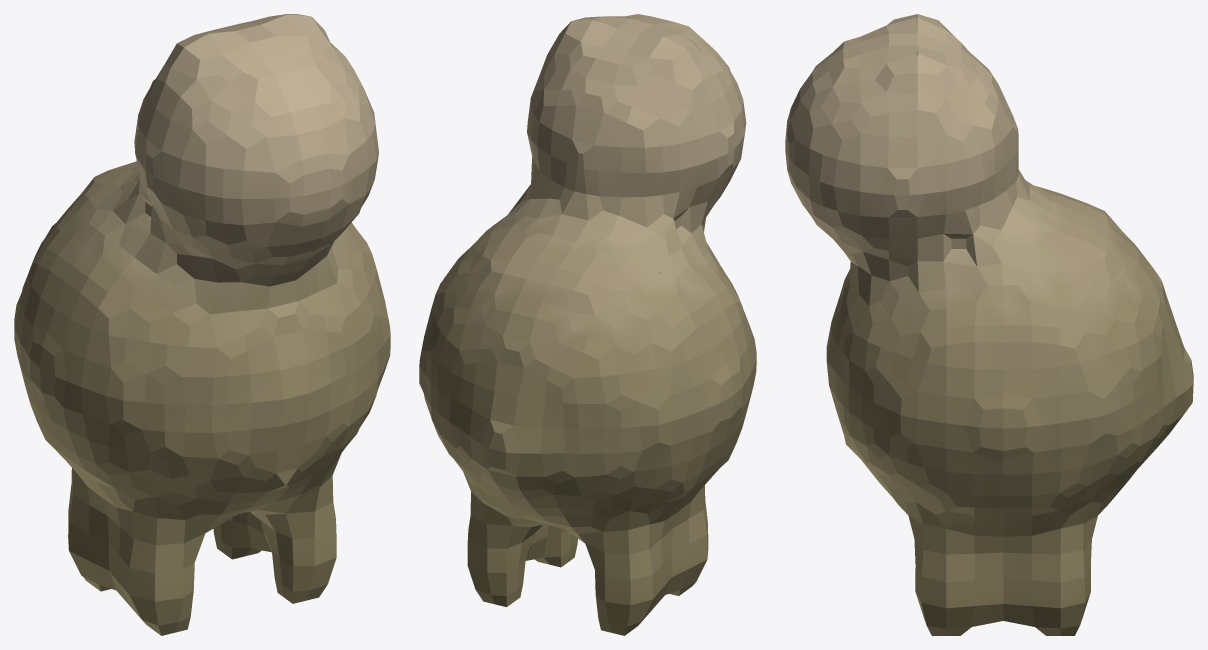
The model's file is rabbit.glb.
The picture shows the model from 3 angles, left to right: view 1: azimuth 30°, elevation 25°; view 2: azimuth 150°, elevation 25°; view 3: azimuth 270°, elevation 25°; orthographic projection. The views are drawn at different scales.
Visible parts, largest first — view 1: geometry_0; view 2: geometry_0; view 3: geometry_0.
Boxes of the visible parts, left/top/right/bottom form: geometry_0: left=14, top=14, right=390, bottom=635; geometry_0: left=419, top=14, right=756, bottom=635; geometry_0: left=785, top=14, right=1193, bottom=635.
Size of the model in its own units: 0.5169 by 0.9077 by 0.5949.
Materials: 1 (1 with a texture image).
